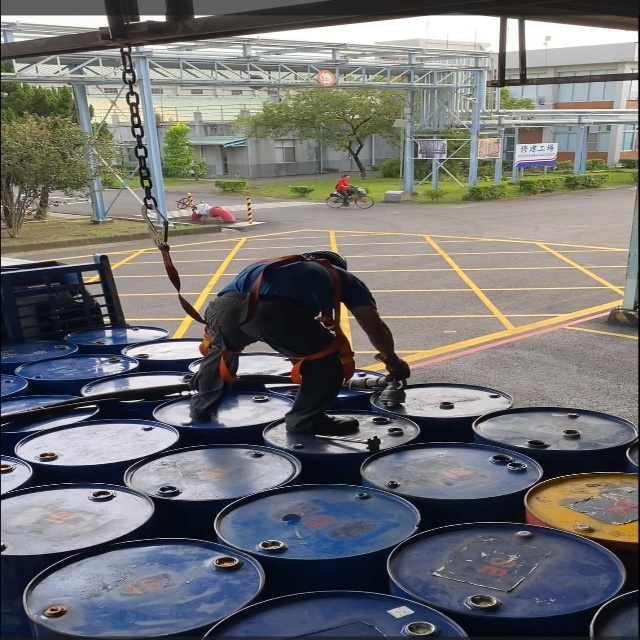Arnes_seguridad: (208, 255, 359, 386)
